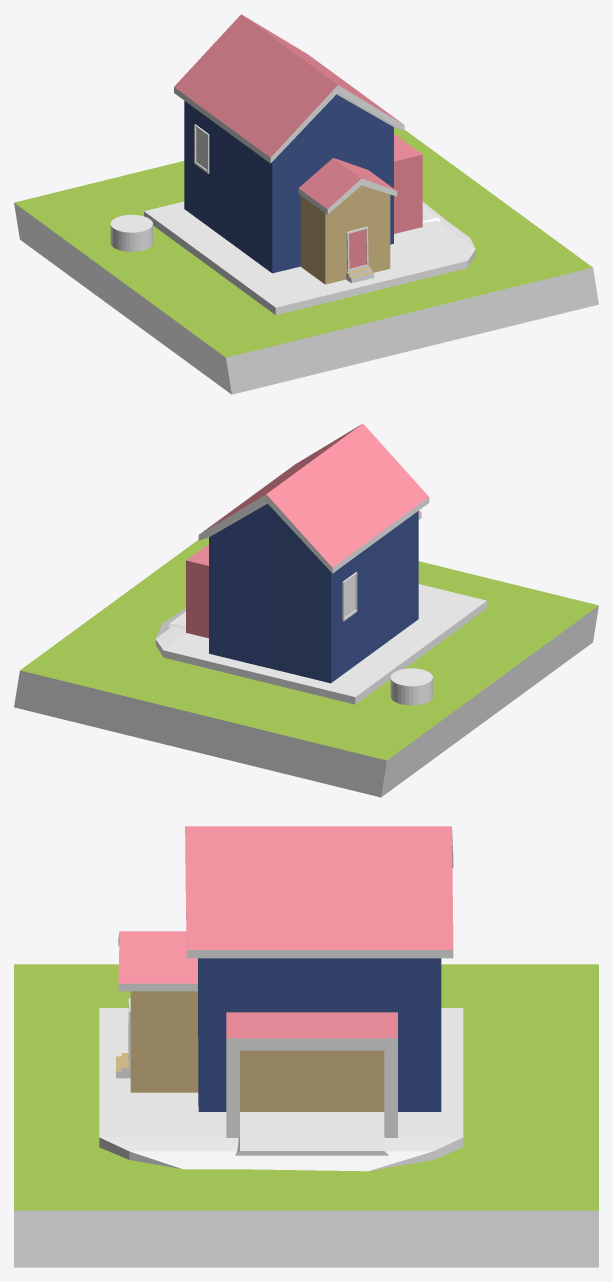
The model's file is house.glb.
3 views of the same model, one above another, from view 1: azimuth 30°, elevation 25°; view 2: azimuth 150°, elevation 25°; view 3: azimuth 270°, elevation 25° (orthographic). The views are drawn at different scales.
Visible parts, largest first — view 1: Cube, Cube.001; view 2: Cube, Cube.001; view 3: Cube, Cube.001.
Part boxes in pixels (x1,y1,x2,y2): Cube: (14,14,598,394); Cube.001: (144,124,475,314); Cube: (14,423,598,797); Cube.001: (155,572,487,704); Cube: (14,826,598,1267); Cube.001: (99,1008,463,1171).
Bounding box in the file's own units: 20.32 × 11.63 × 20.
